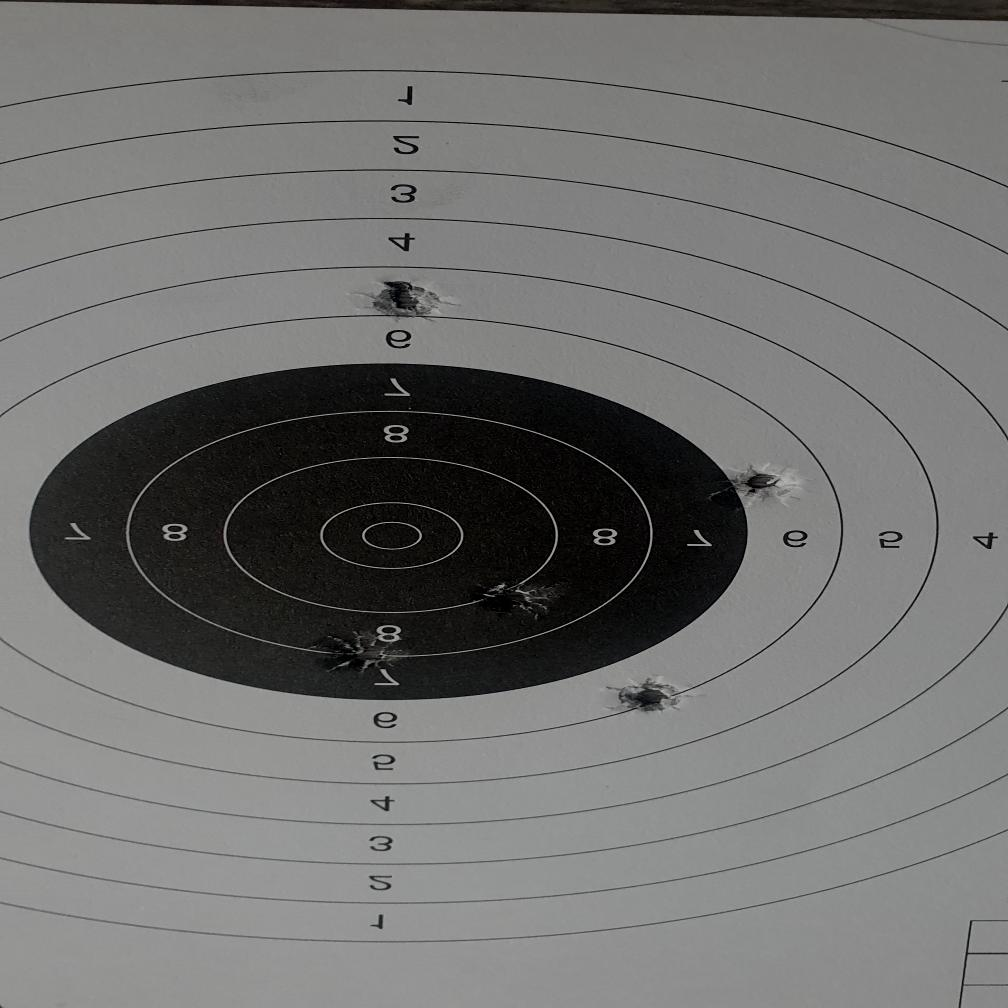6: (352, 280, 458, 324), (606, 676, 699, 716)
7: (710, 462, 808, 510)
8: (312, 633, 410, 675)
9: (465, 578, 563, 620)
Target: (0, 68, 1008, 946)
black_contour: (30, 364, 750, 700)
